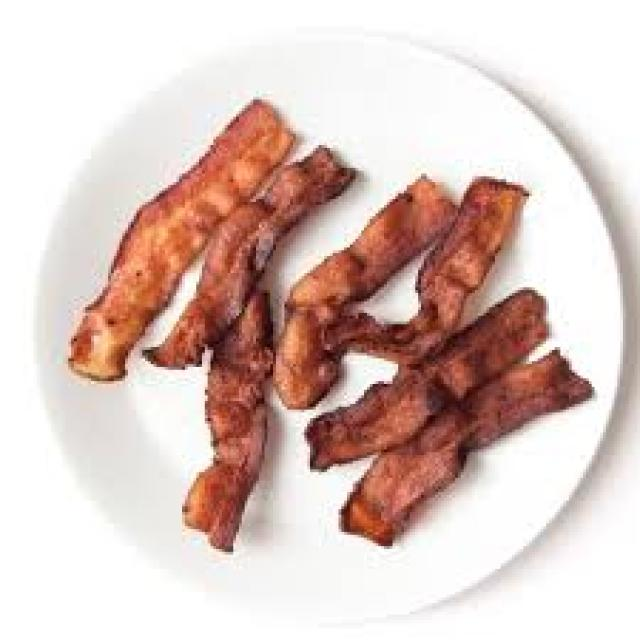Bacon: (70, 104, 295, 381), (341, 351, 590, 544), (145, 149, 354, 367), (182, 290, 271, 551), (288, 179, 455, 307), (419, 179, 528, 332), (421, 291, 546, 399), (310, 370, 432, 469), (274, 309, 340, 408)
